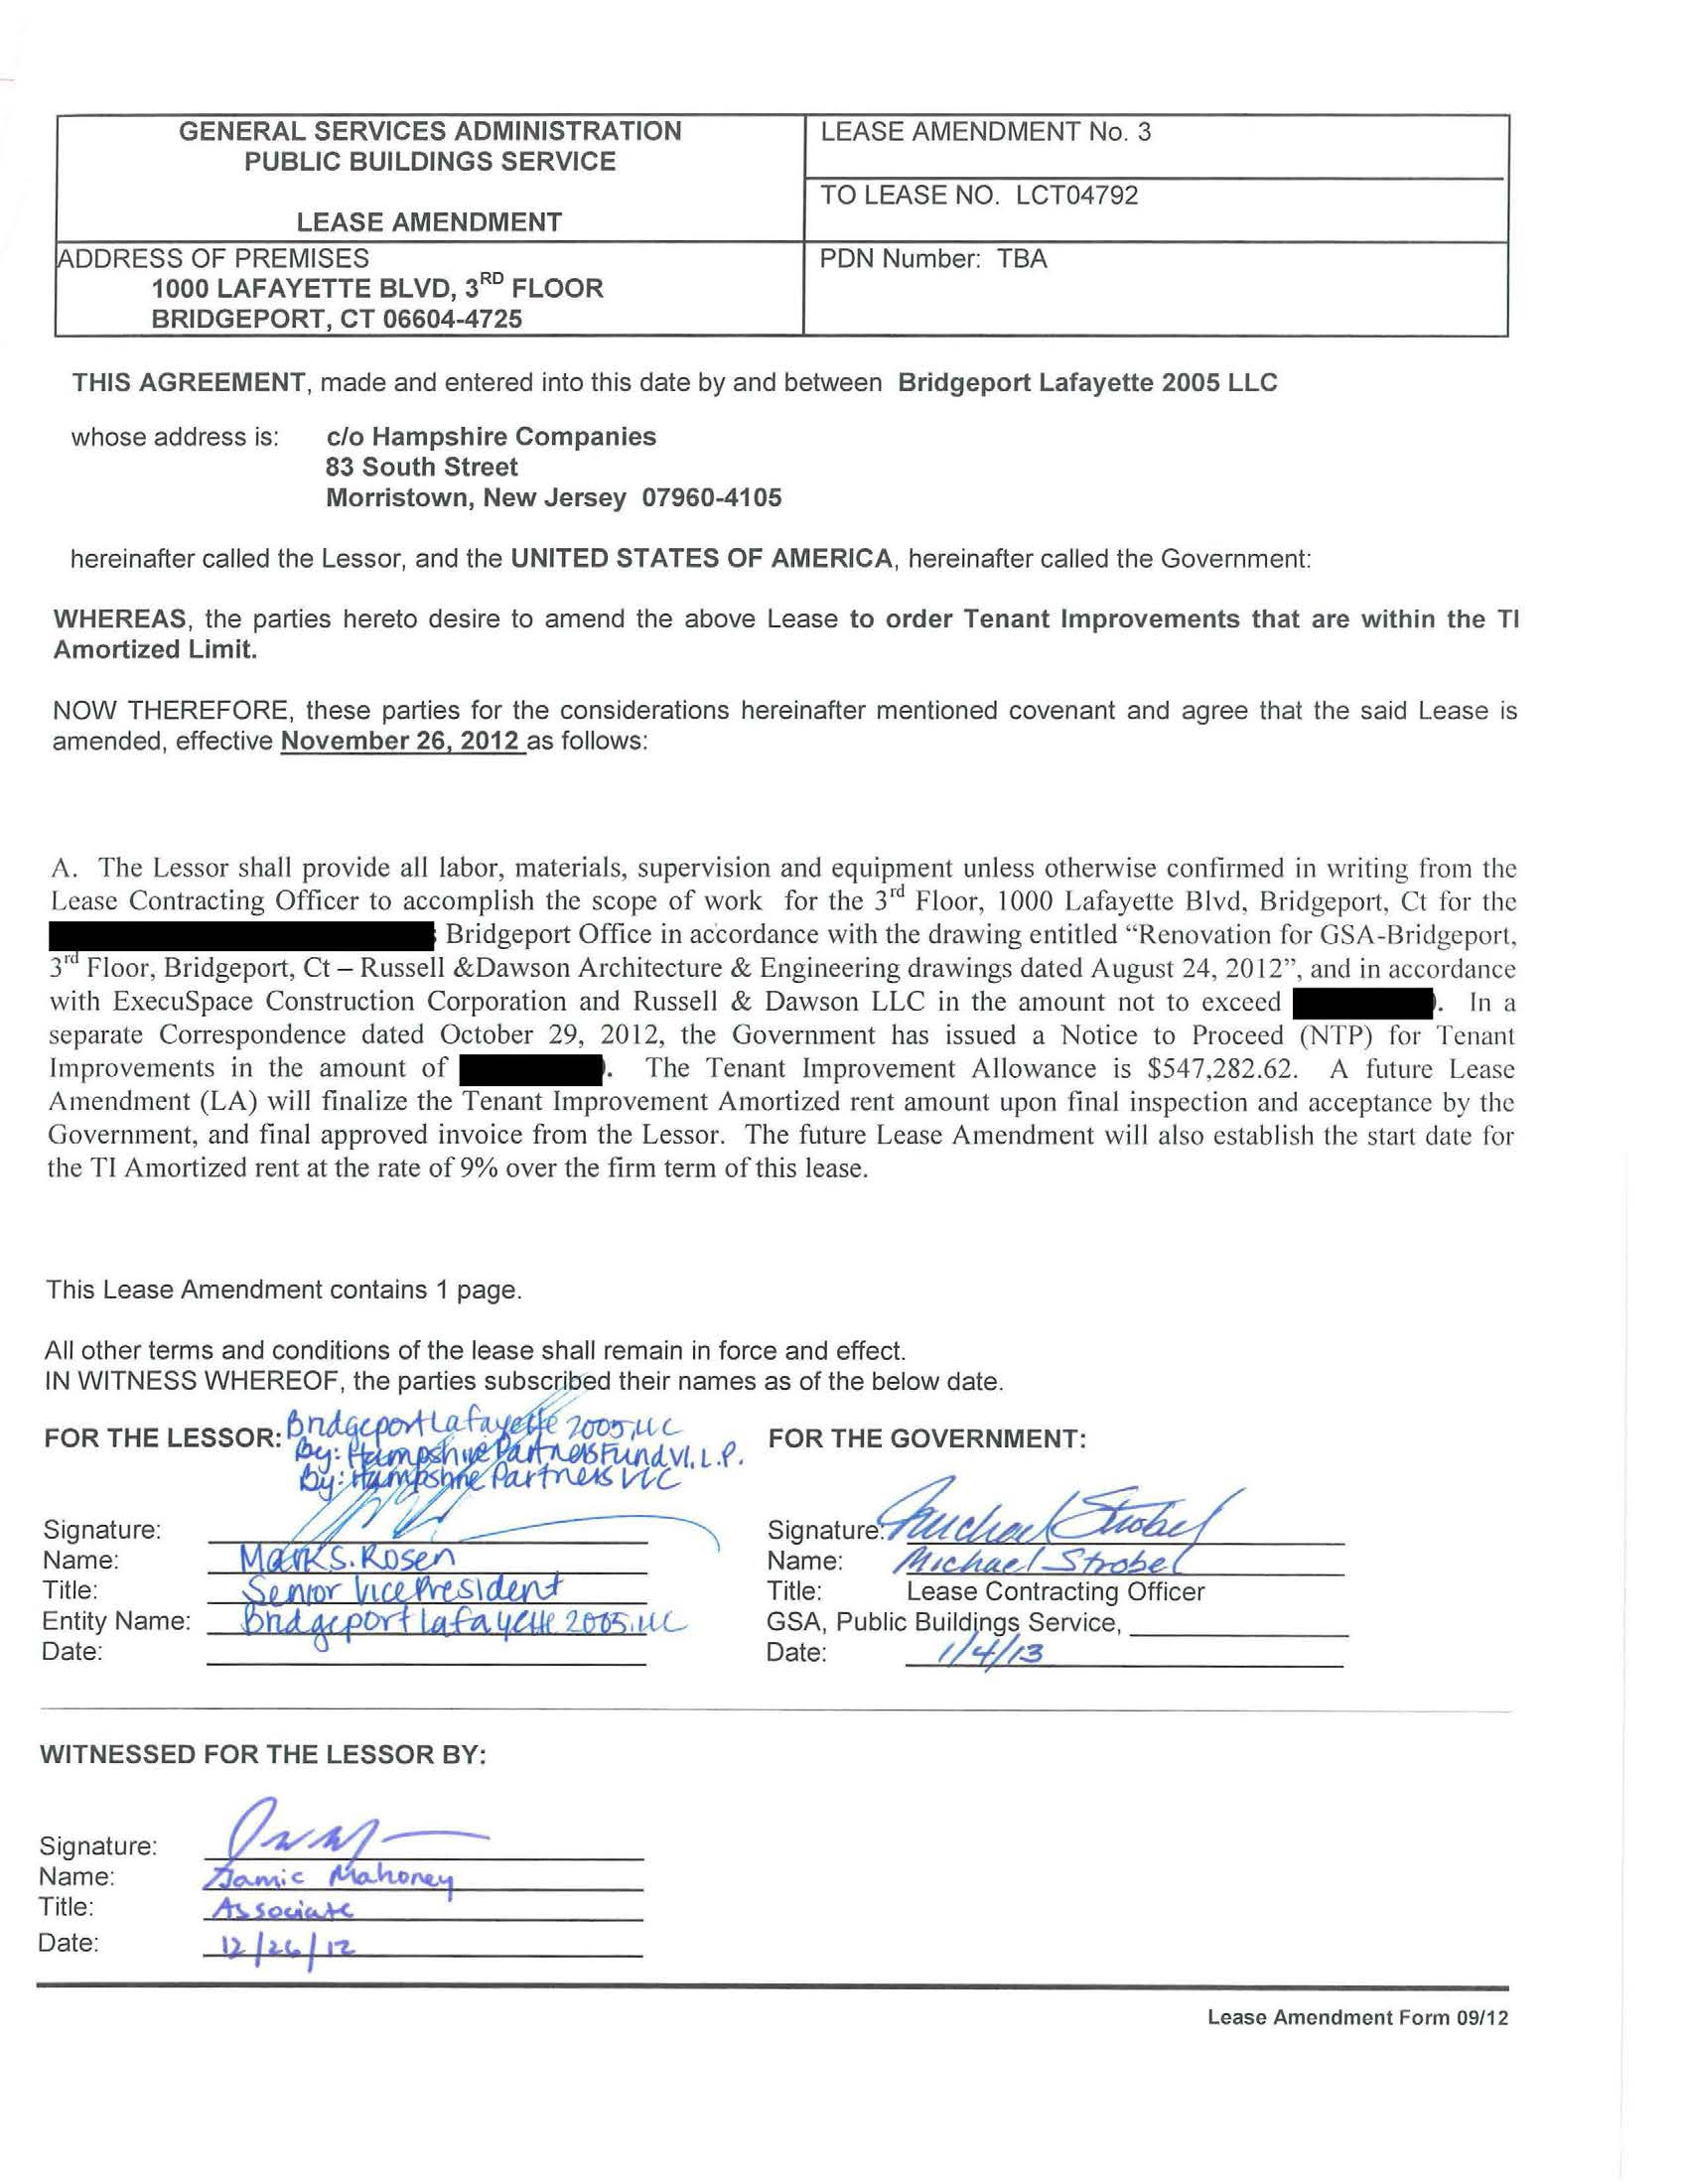handwritten: (277, 1406, 752, 1501), (270, 1471, 732, 1551), (872, 1462, 1282, 1537), (211, 1774, 509, 1874), (225, 1592, 681, 1650), (878, 1528, 1223, 1583), (241, 1528, 505, 1578), (193, 1856, 496, 1891), (202, 1874, 397, 1929), (234, 1571, 587, 1601), (915, 1624, 1094, 1673), (197, 1929, 388, 1968)
